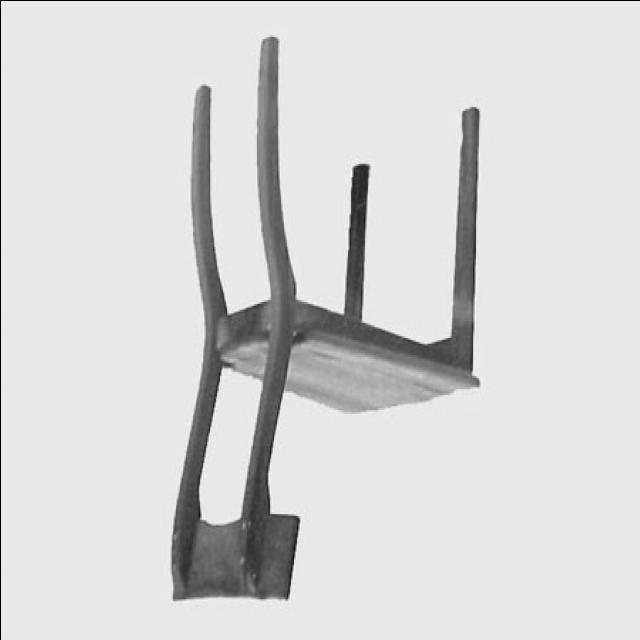chair: (168, 35, 482, 602)
